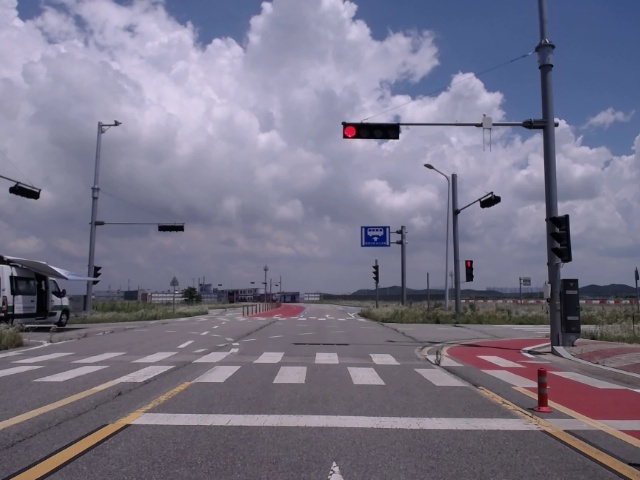red_4: (343, 125, 399, 139)
